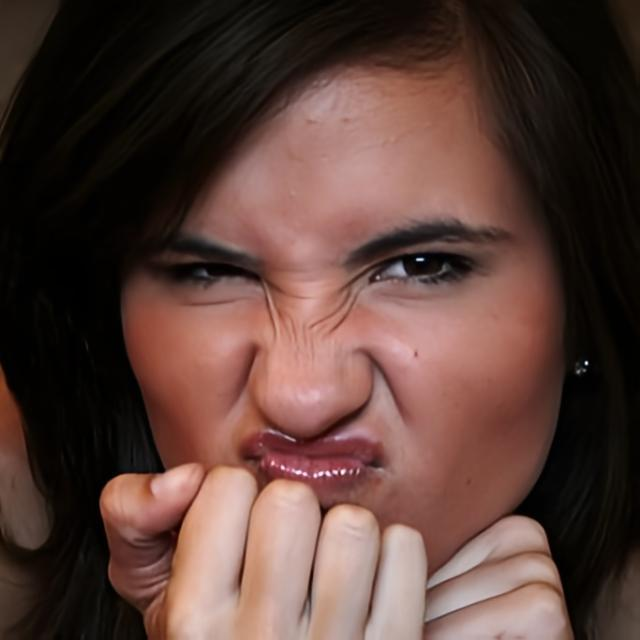disgust: (117, 0, 568, 623)
